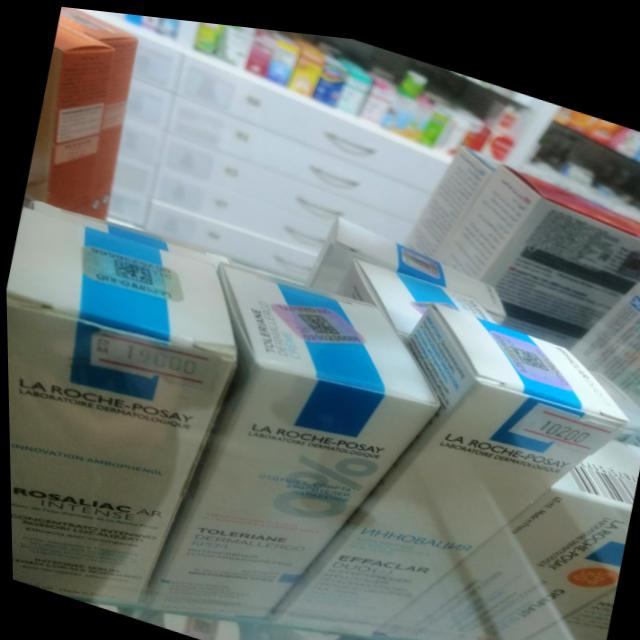datamatrix: (108, 252, 157, 286), (295, 301, 343, 334), (506, 332, 551, 362)
